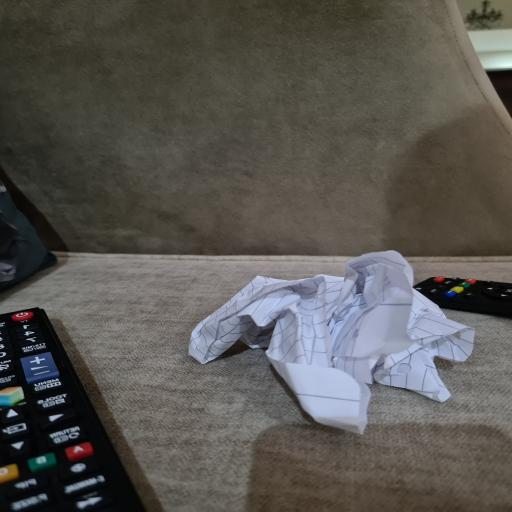Kertas: (189, 251, 474, 434)
